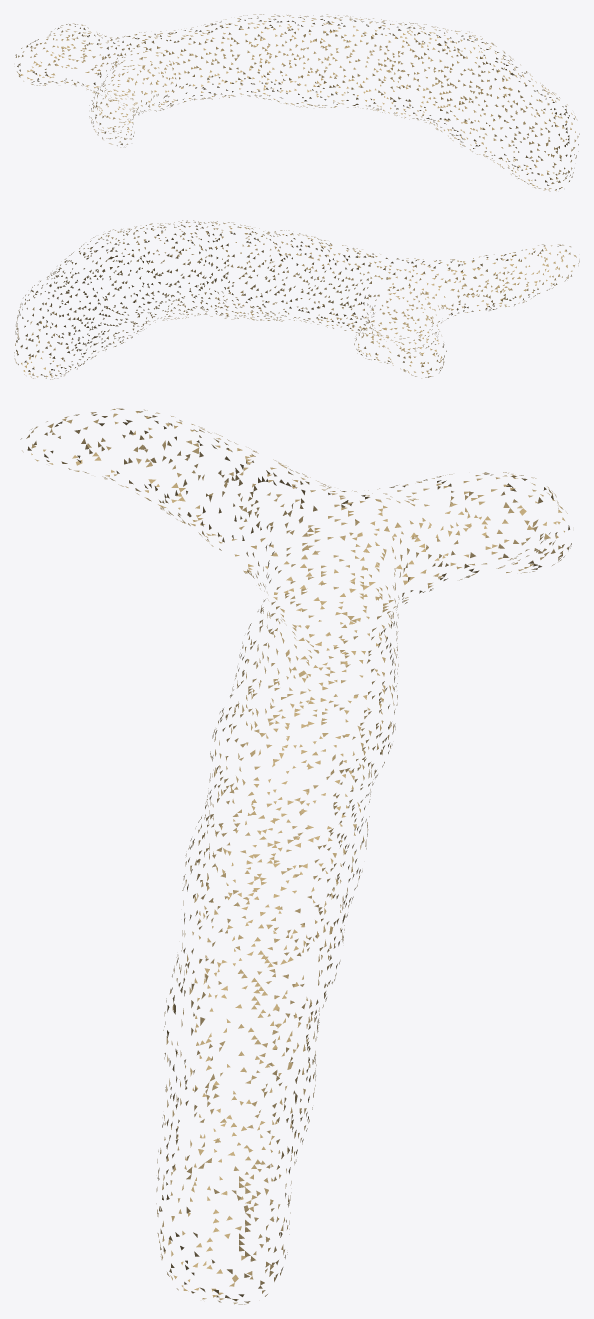
Rendered from morph_007.glb.
3 views of the same model, one above another, from view 1: azimuth 30°, elevation 25°; view 2: azimuth 150°, elevation 25°; view 3: azimuth 270°, elevation 25° (orthographic). The views are drawn at different scales.
Size of the model in its own units: 129 by 53.72 by 60.98.
